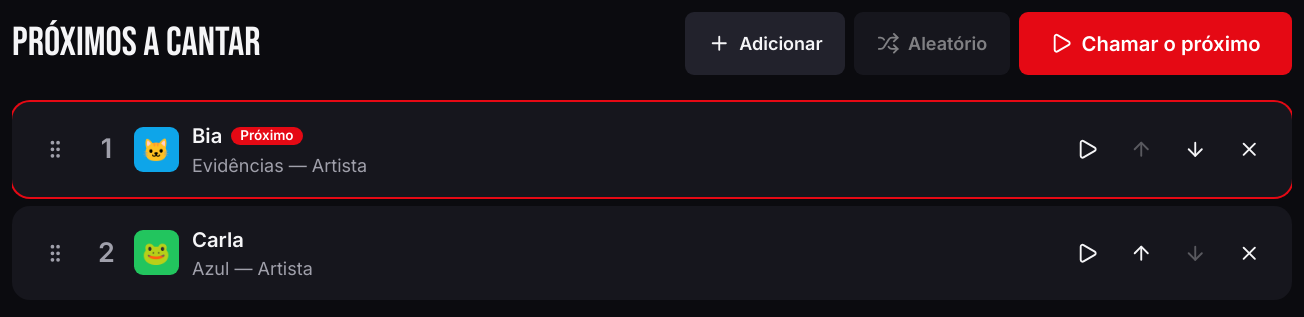
Scenario: SingQueuePage › takes a request out of the queue without asking
This screenshot has width=1304, height=317.
Click the button named "Tirar Bia, Evidências da fila".
click(1249, 149)  # box [1224,124,1274,174]
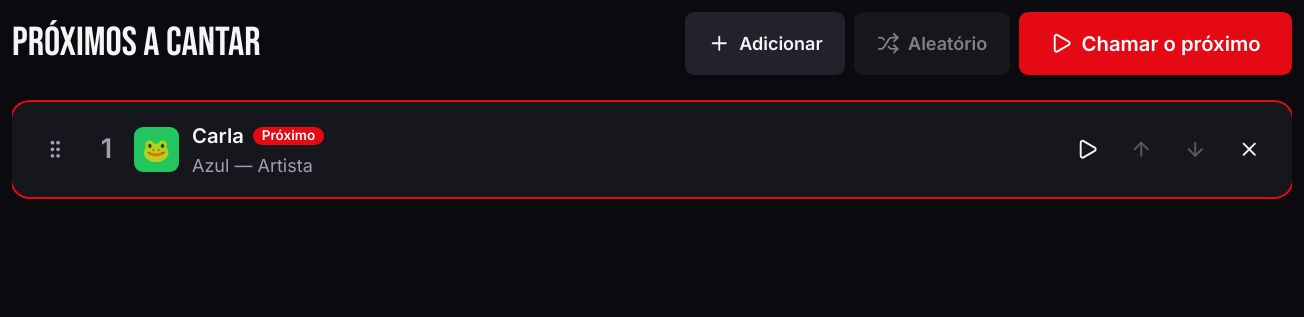
Expected: the text "Carla" is shown, [192,120,244,152]
Expected: the text "Bia" is gone
